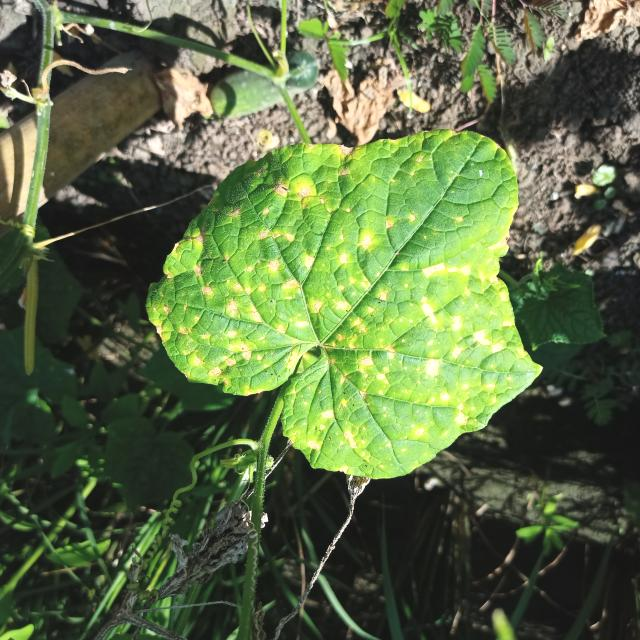disease_cucumber: (162, 133, 524, 472)
